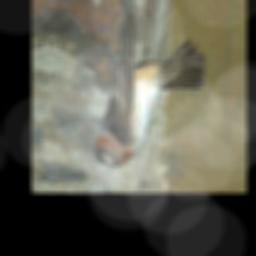Swallow: (90, 7, 214, 177)
